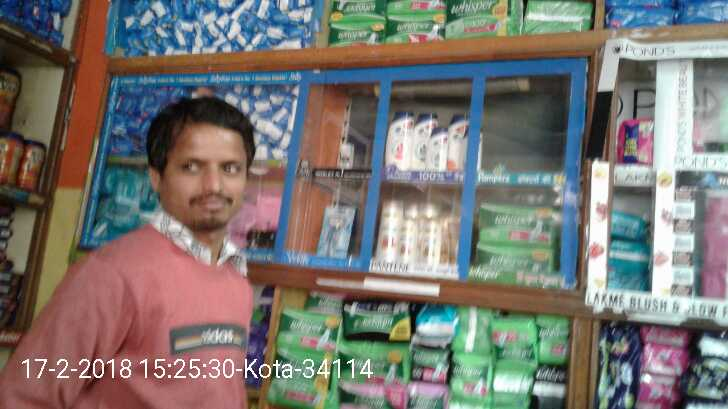venus: (323, 205, 355, 254)
